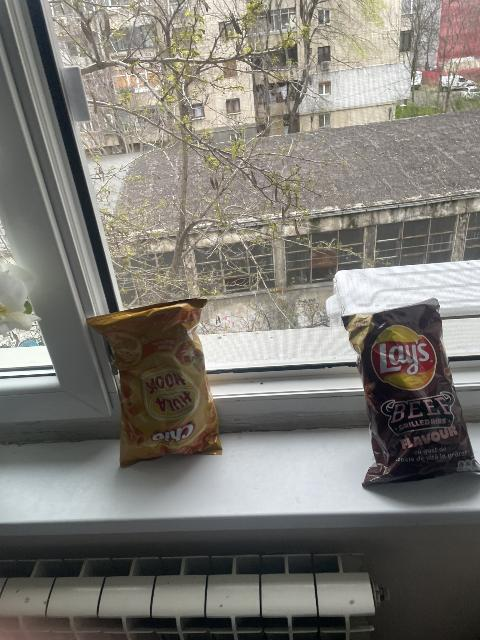Chio Hula Hoops Cheese 70g: (82, 297, 226, 467)
Lays Beef Grilled Ribs 125g: (339, 297, 480, 488)
